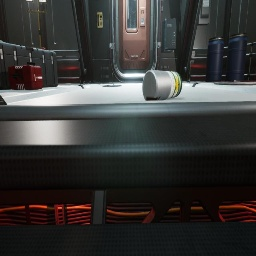0: (142, 70, 182, 101)
EmergencyPhone ,: (96, 8, 103, 28)
FirstAidBox ,: (8, 65, 43, 90)
SafetySwitchPanel ,: (198, 0, 212, 25)
